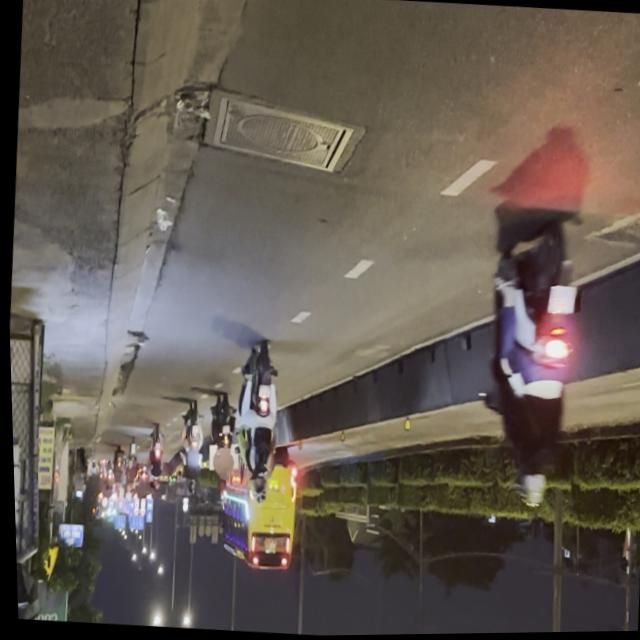helmet: (514, 460, 547, 510)
licenseplate: (465, 213, 586, 513)
nohelmet: (545, 286, 575, 316)
